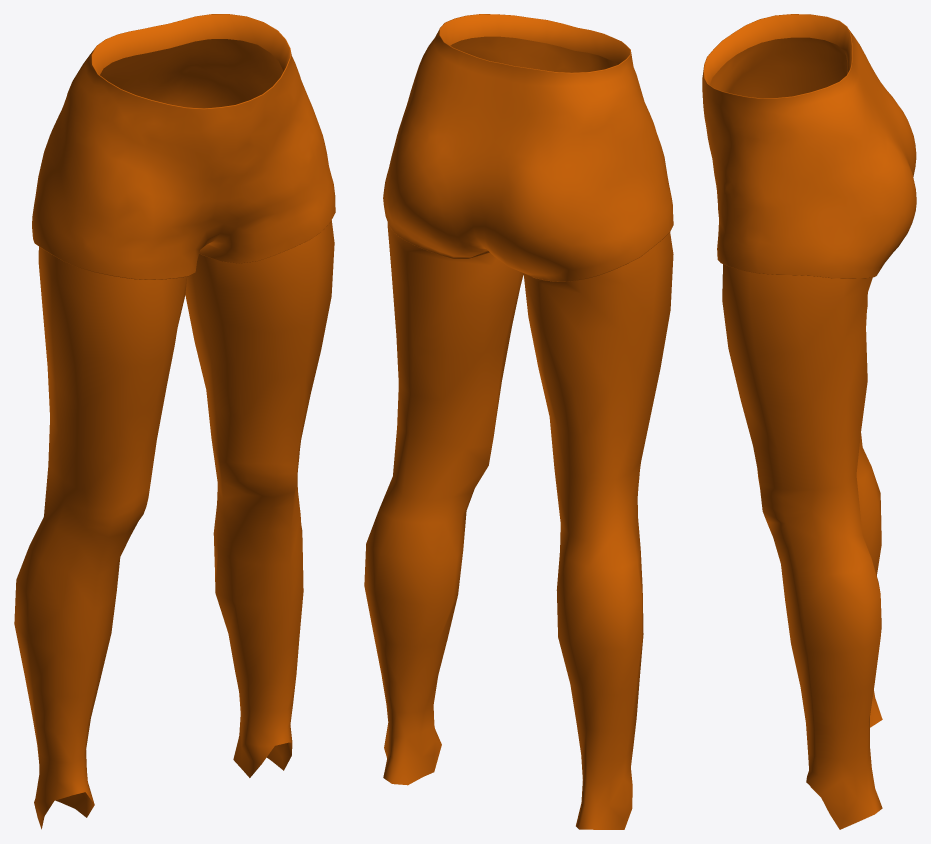
Rendered from calçaofem14.glb.
3 views of the same model, side by side, from view 1: azimuth 30°, elevation 25°; view 2: azimuth 150°, elevation 25°; view 3: azimuth 270°, elevation 25° (orthographic). The views are drawn at different scales.
Visible parts, largest first — view 1: hash_0F485825.model; view 2: hash_0F485825.model; view 3: hash_0F485825.model.
Part boxes in pixels (x1=…): hash_0F485825.model: x1=14, y1=14, x2=335, y2=829; hash_0F485825.model: x1=364, y1=14, x2=673, y2=829; hash_0F485825.model: x1=702, y1=14, x2=916, y2=829.
Bounding box in the file's own units: 0.4138 × 1.11 × 0.2987.
